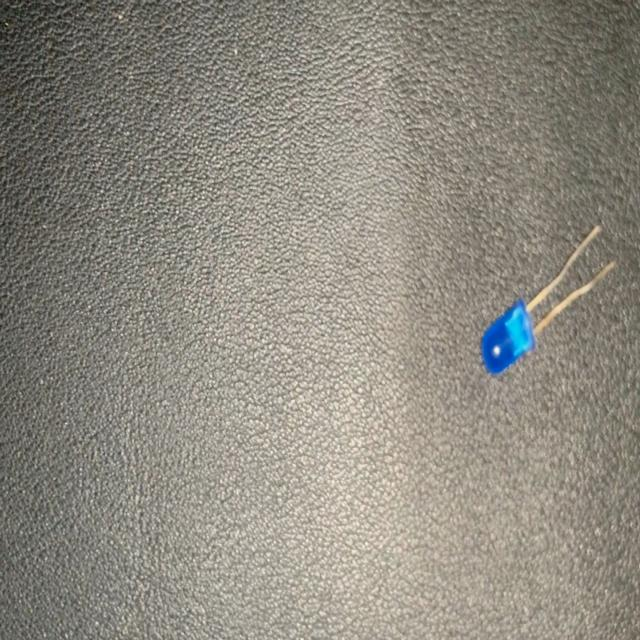LED: (478, 225, 615, 378)
